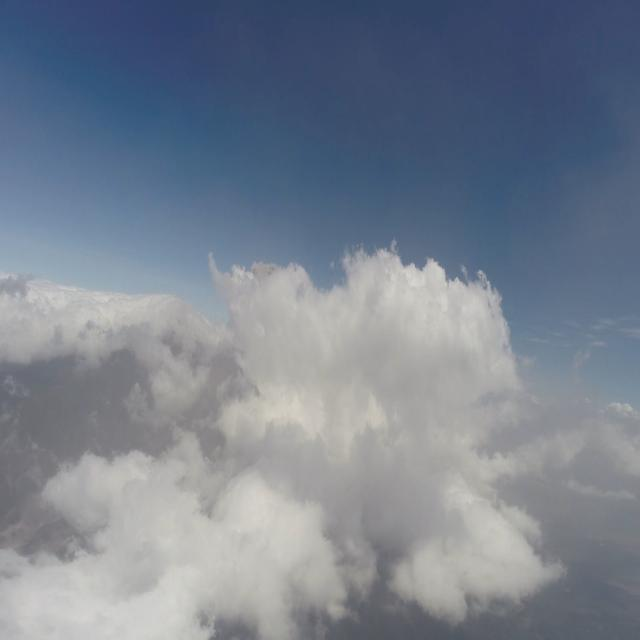Plume: (250, 256, 280, 281)
